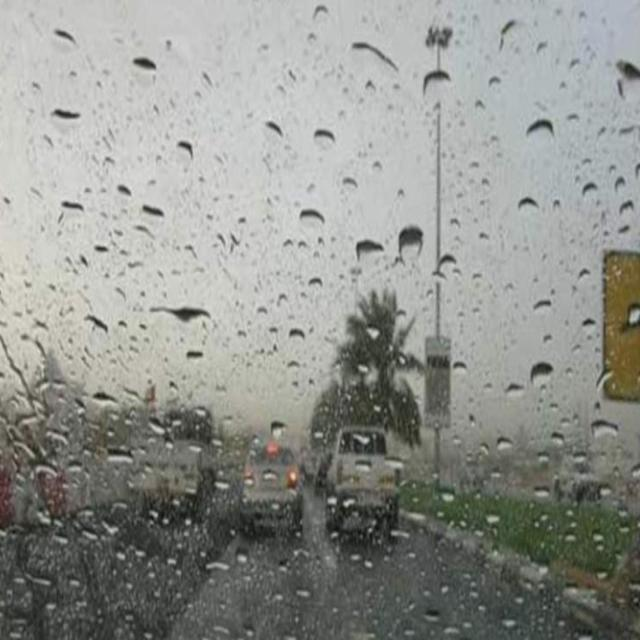Car: (136, 391, 222, 522), (317, 408, 406, 534), (236, 415, 306, 529), (94, 425, 140, 530), (556, 416, 600, 520)
